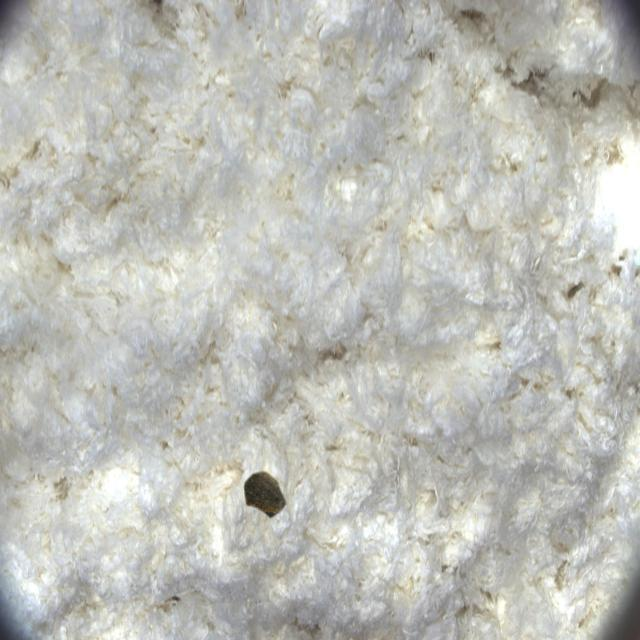dust: (232, 446, 309, 548)
